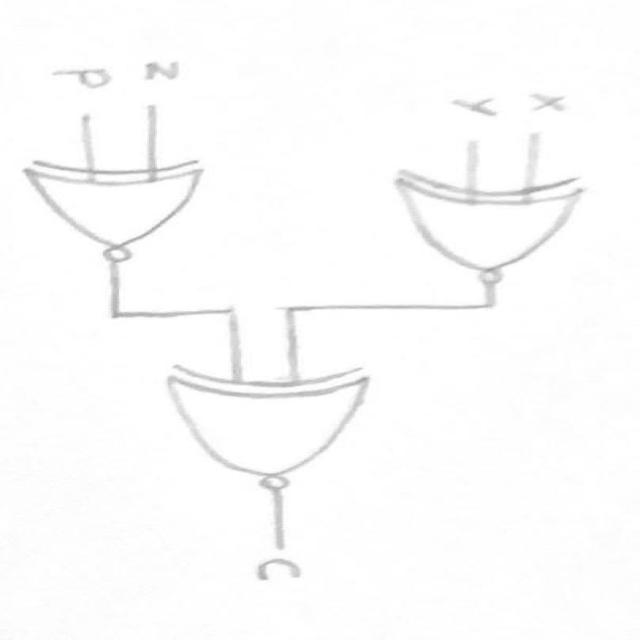XNOR: (113, 357, 419, 503), (371, 164, 603, 285), (7, 151, 237, 268)
